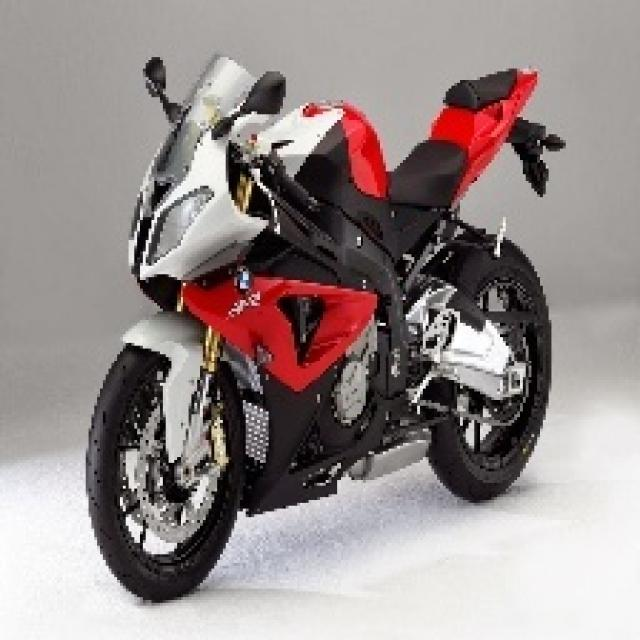motorace: (70, 39, 572, 600)
